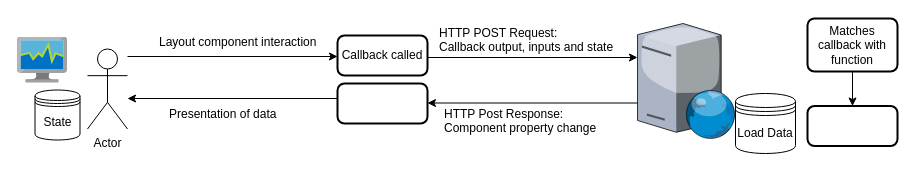
Image size: 915x171. Some labels were removed from this diagram. Here are the shapes that lost their labels. From the top down, the centre of each, then its label:
(382,103): Layout updates
(852,125): Back-end functionality
